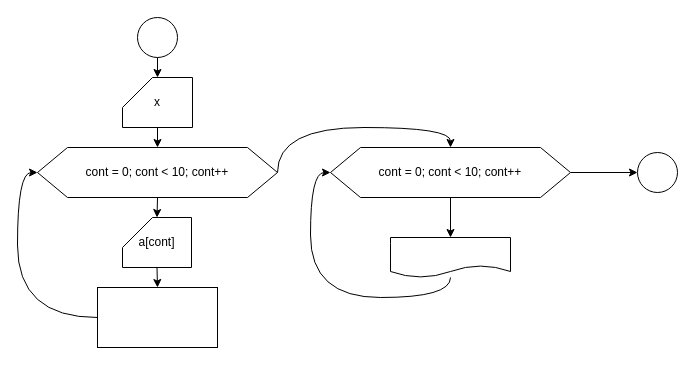
Image size: 695x365. Some labels were removed from this diagram. Each missing label, with the box of its shape:
m[cont]: (390, 236, 510, 278)
m[cont] = a[cont] * x: (96, 286, 218, 348)
